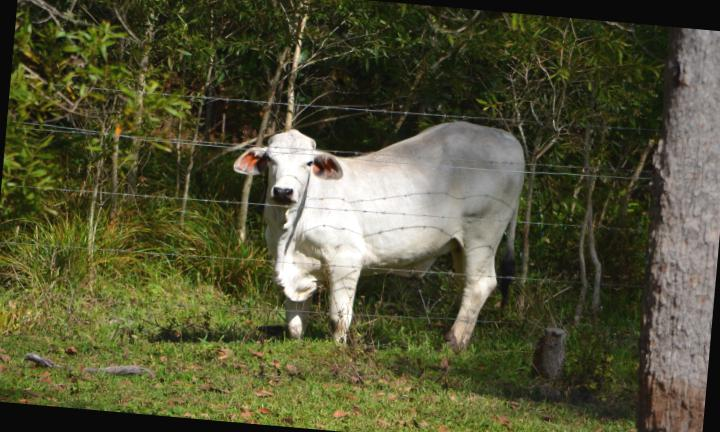Brahman: (234, 122, 525, 346)
